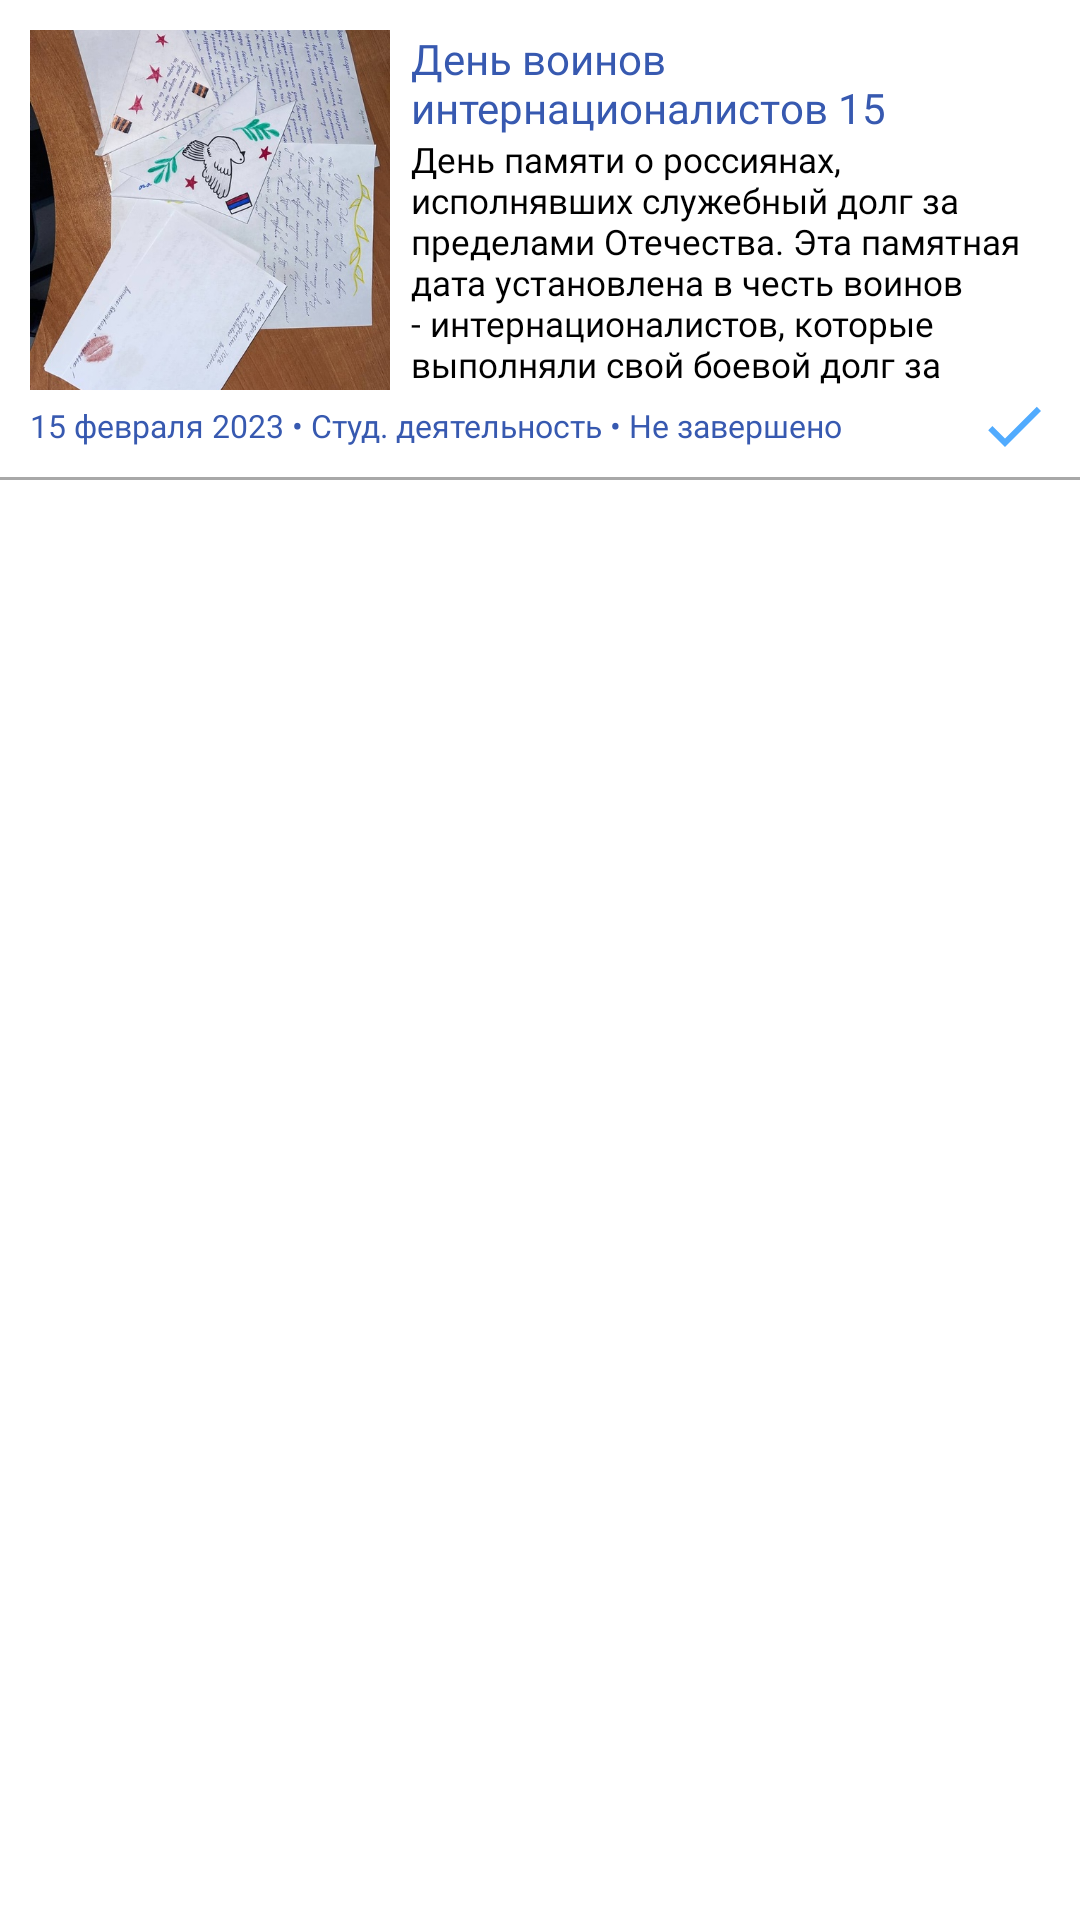

Screen size 1080w x 1920h. Icon name, then its center in pixels as point (x, y):
done: point (1014, 427)
